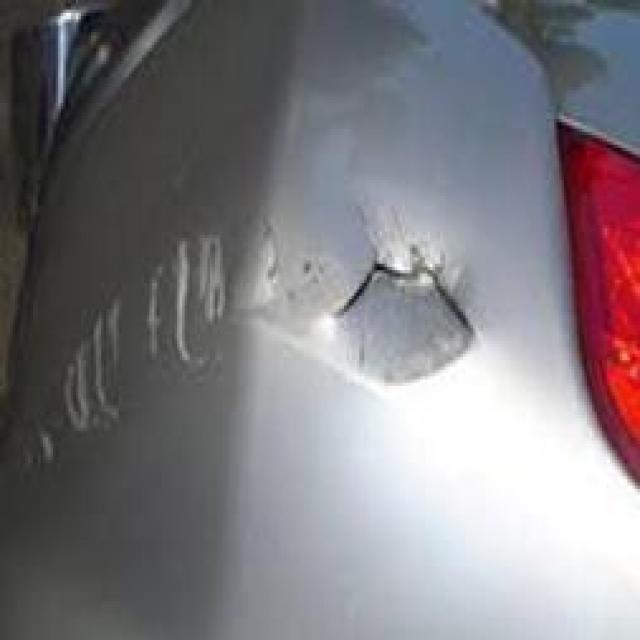scratch: (0, 188, 235, 493)
